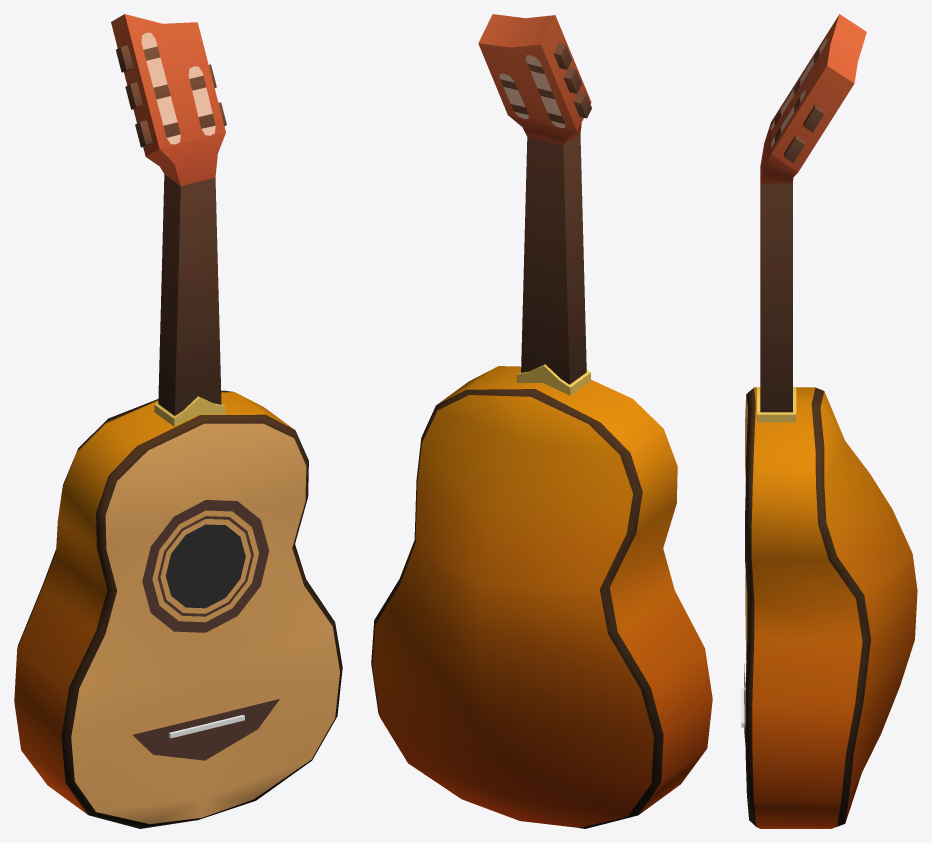
Rendered from Arm_Mexico.fbx.
The picture shows the model from 3 angles, left to right: view 1: azimuth 30°, elevation 25°; view 2: azimuth 150°, elevation 25°; view 3: azimuth 270°, elevation 25°; orthographic projection. The views are drawn at different scales.
Visible parts, largest first — view 1: Arm_Mexico; view 2: Arm_Mexico; view 3: Arm_Mexico.
Boxes of the visible parts, box(x1,y1,x2,y2) form: Arm_Mexico: box(14, 14, 342, 828); Arm_Mexico: box(371, 14, 712, 828); Arm_Mexico: box(741, 14, 917, 828).
Size of the model in its own units: 38.56 by 103 by 21.16.
